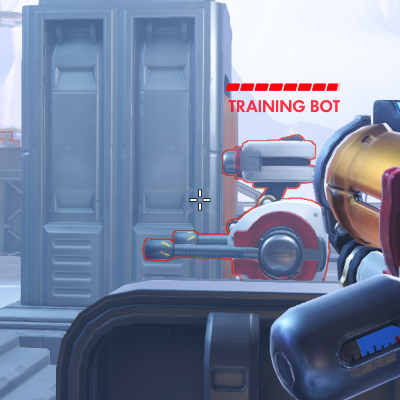hpbar: (225, 82, 342, 92)
